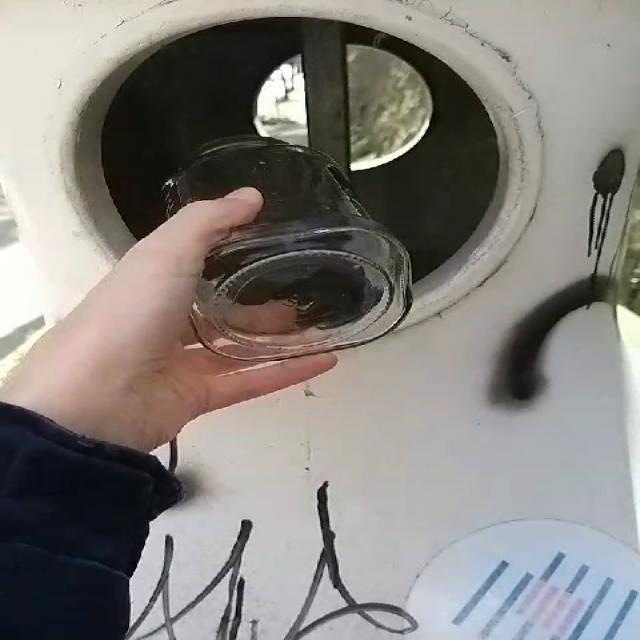Glass: (163, 135, 412, 361)
